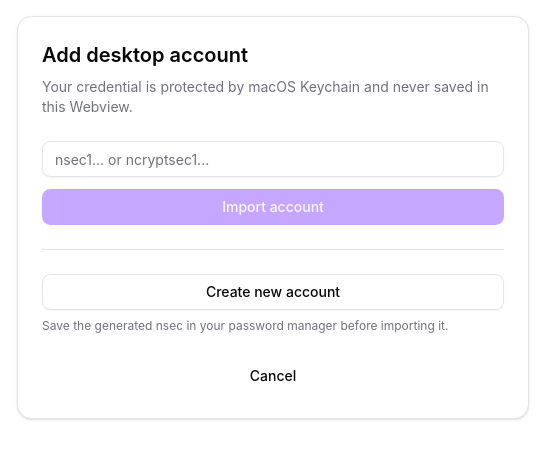
Test: DesktopAuthPage › shows the native nsec import rejection
In the password field named "Nostr credential": (273, 159) 42,141 -> 504,177, type "nsec1j4c6269y9w0q2er2xjw8sv2ehyrtfxq3jwgdlxj6qfn8z4gjsq5qfvfk99"
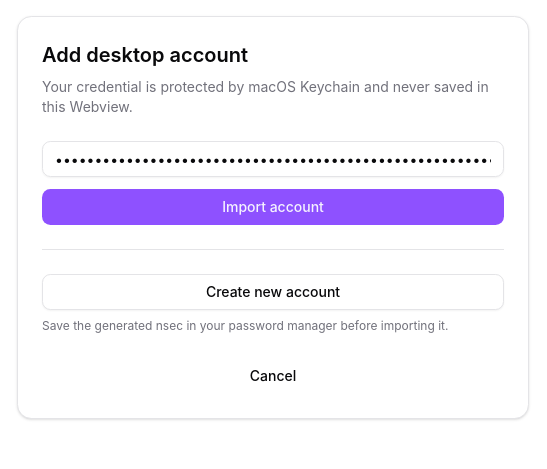
Click the button "Import account": (273, 207) 42,189 -> 504,225
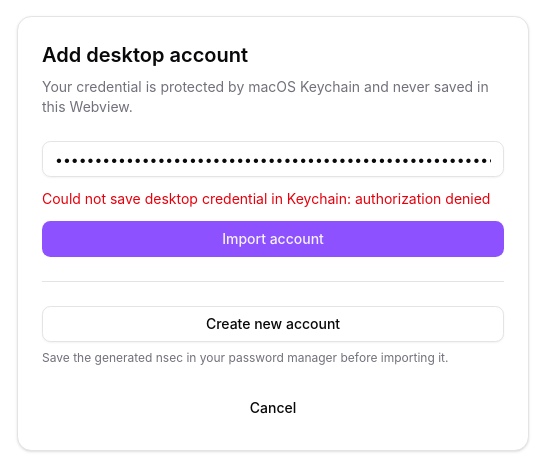
Result: the text "Could not save desktop credential in Keychain: authorization denied" is shown at 42,189 -> 504,209
